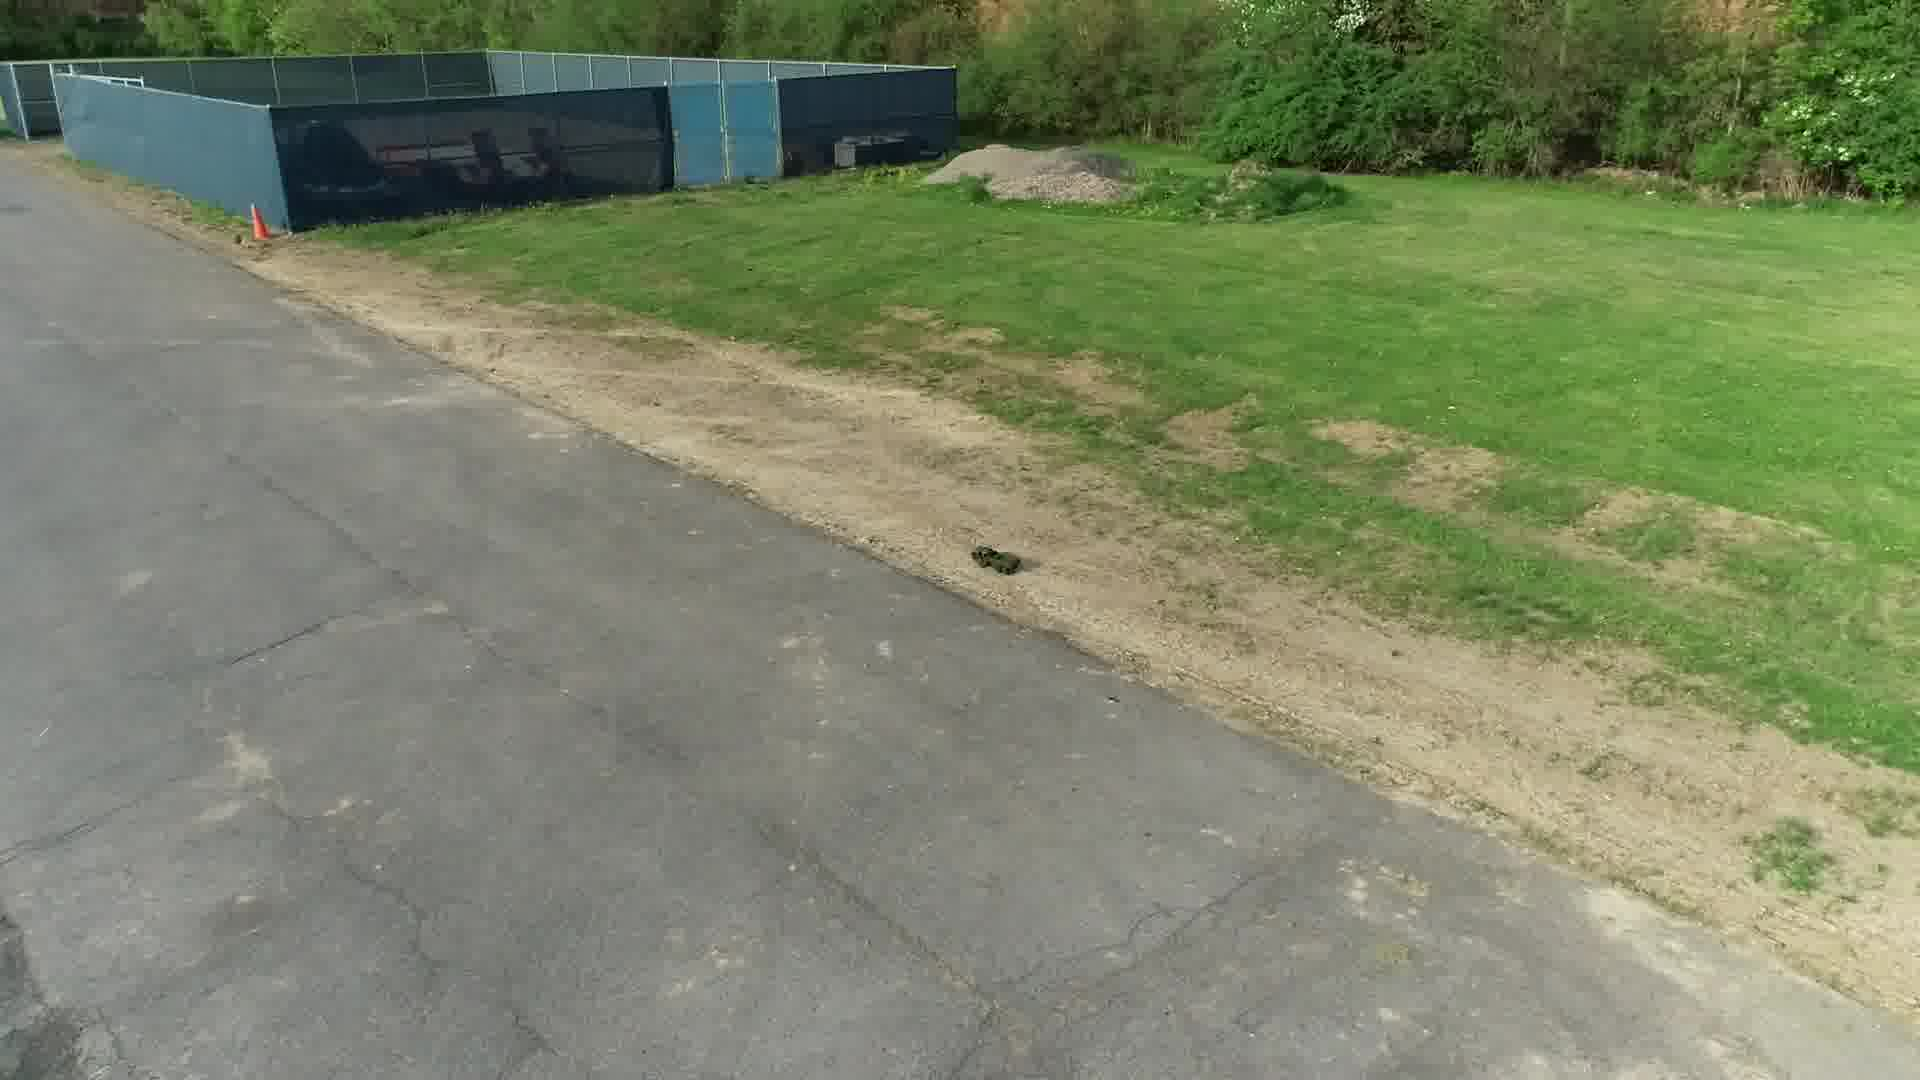transporter9: (968, 545, 1026, 576)
